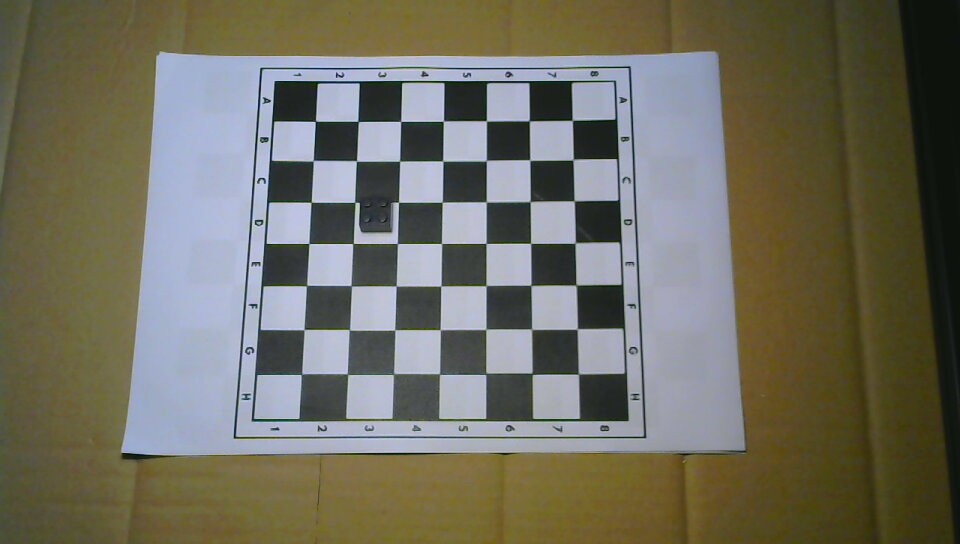bp: (357, 197, 394, 234)
